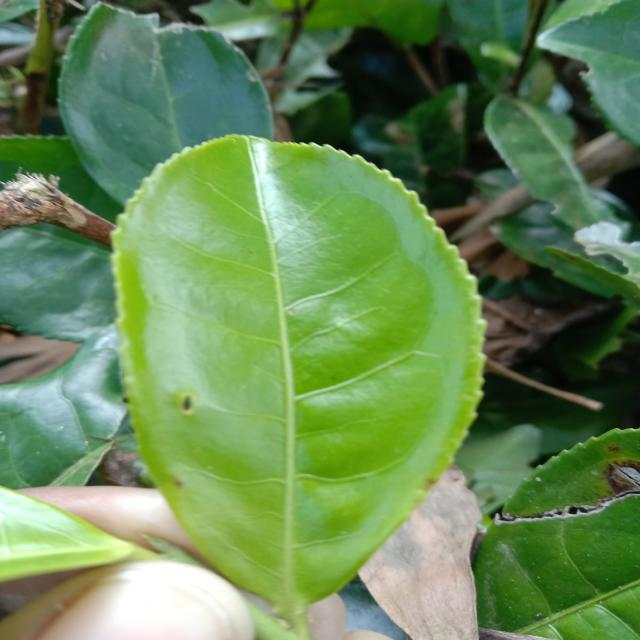Category B 2-4 days: (102, 119, 498, 616)
